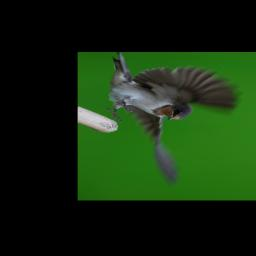Swallow: (106, 55, 242, 184)
